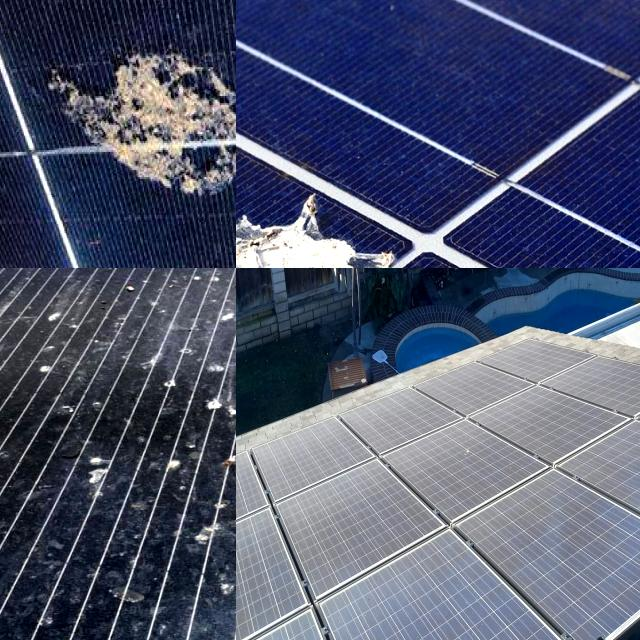bird: (24, 18, 236, 227), (236, 184, 408, 268), (0, 277, 133, 382), (59, 563, 236, 640), (32, 415, 136, 502), (160, 446, 236, 550), (145, 300, 236, 383), (128, 268, 213, 299)
dust: (438, 421, 496, 480)
